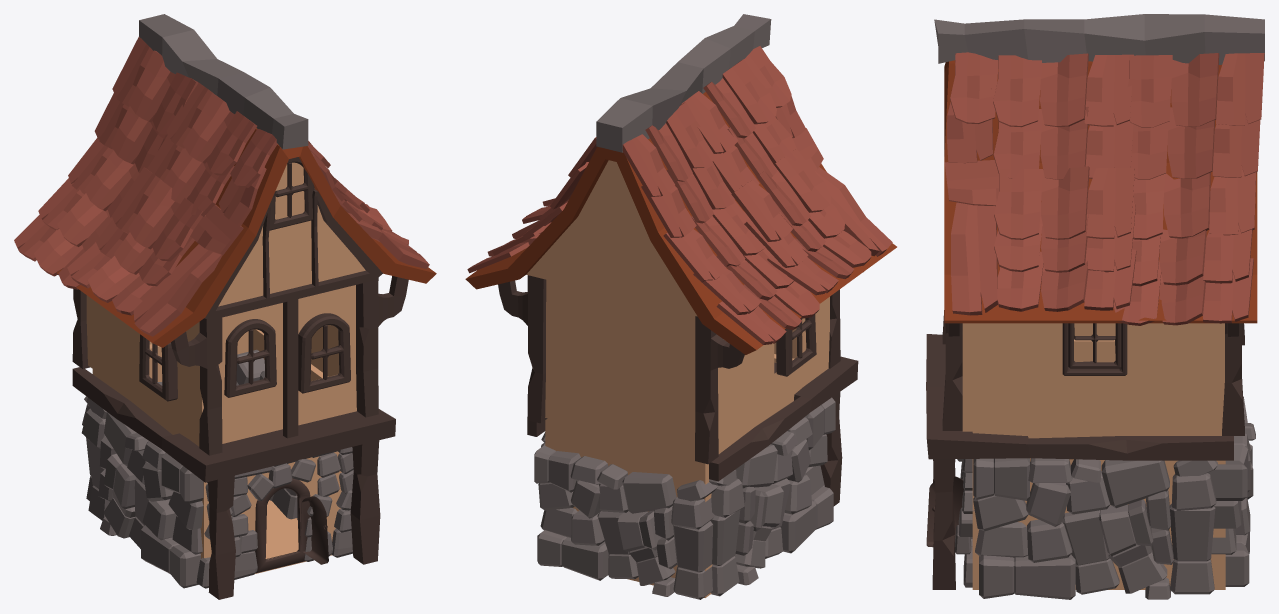
Rendered from maison-petite-3 (source).glb.
The picture shows the model from 3 angles, left to right: view 1: azimuth 30°, elevation 25°; view 2: azimuth 150°, elevation 25°; view 3: azimuth 270°, elevation 25°; orthographic projection. The views are drawn at different scales.
Visible parts, largest first — view 1: Roof Rocks.002, Wood Frame.002, Building_4, Side Rocks.002, Windows.001_primitive0, Roof.004, Roof.009, Front Rocks.002, Door; view 2: Roof Rocks.002, Building_4, Back Rocks.002, Side Rocks.002, Wood Frame.002, Roof.004, Roof.009, Windows.001_primitive0; view 3: Roof Rocks.002, Side Rocks.002, Building_4, Wood Frame.002, Roof.009, Roof.004, Back Rocks.002, Windows.001_primitive0, Front Rocks.002, Door.
Part boxes in pixels (x1,y1,x2,y2): Roof Rocks.002: (14,37,429,336); Wood Frame.002: (58,189,408,599); Building_4: (86,162,365,573); Side Rocks.002: (81,349,297,588); Windows.001_primitive0: (139,157,350,401); Roof.004: (56,128,436,347); Roof.009: (139,14,308,149); Front Rocks.002: (196,447,353,588); Door: (254,478,328,573); Roof Rocks.002: (467,46,892,344); Building_4: (526,160,829,597); Back Rocks.002: (534,445,717,599); Side Rocks.002: (541,397,835,596); Wood Frame.002: (498,275,858,506); Roof.004: (465,92,896,354); Roof.009: (596,14,771,152); Windows.001_primitive0: (776,314,816,376); Roof Rocks.002: (944,52,1264,325); Side Rocks.002: (973,458,1217,599); Building_4: (962,323,1225,589); Wood Frame.002: (926,310,1244,589); Roof.009: (934,14,1264,64); Roof.004: (944,60,1257,323); Back Rocks.002: (1208,396,1255,586); Windows.001_primitive0: (1062,323,1127,375); Front Rocks.002: (955,459,974,587); Door: (926,476,963,547).
Bounding box in the file's own units: 38.05 × 56.58 × 32.98.
